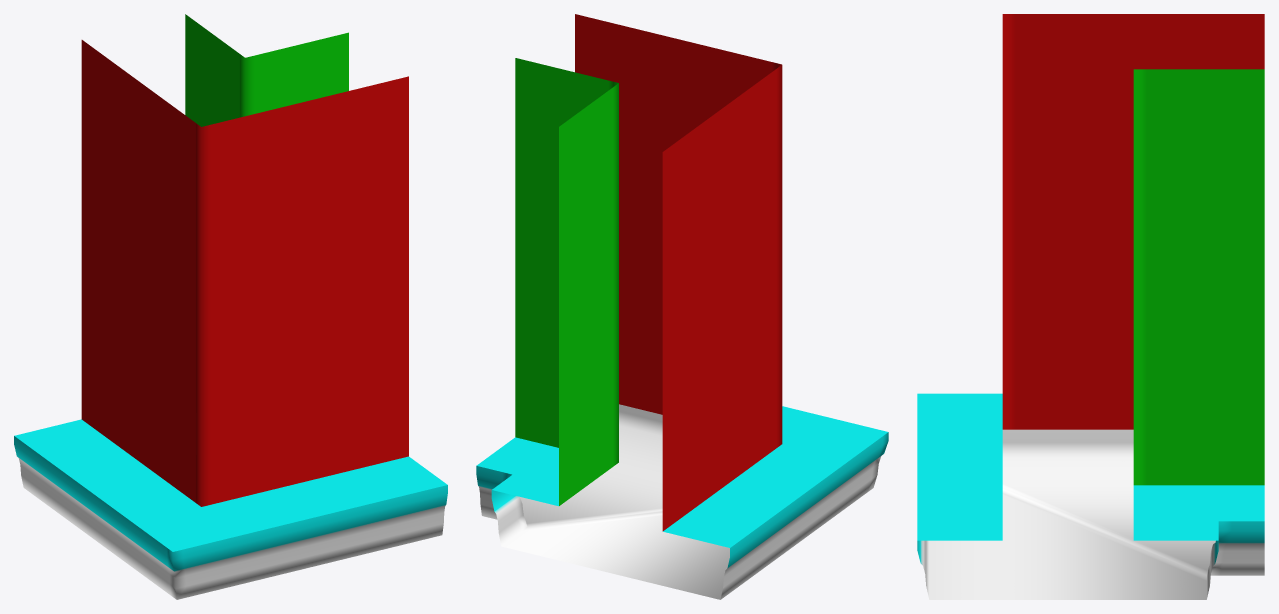
File: SM_FriezeArchDualOpenCorner1m.fbx
The picture shows the model from 3 angles, left to right: view 1: azimuth 30°, elevation 25°; view 2: azimuth 150°, elevation 25°; view 3: azimuth 270°, elevation 25°; orthographic projection. The views are drawn at different scales.
Parts seen in each view (by area): view 1: SM_FriezeArchDualOpenCorner1m; view 2: SM_FriezeArchDualOpenCorner1m; view 3: SM_FriezeArchDualOpenCorner1m.
Part boxes in pixels (<box>): SM_FriezeArchDualOpenCorner1m: <box>14,14,447,599</box>; SM_FriezeArchDualOpenCorner1m: <box>476,14,888,599</box>; SM_FriezeArchDualOpenCorner1m: <box>917,14,1264,599</box>.
Bounding box in the file's own units: 132 × 200 × 132.
